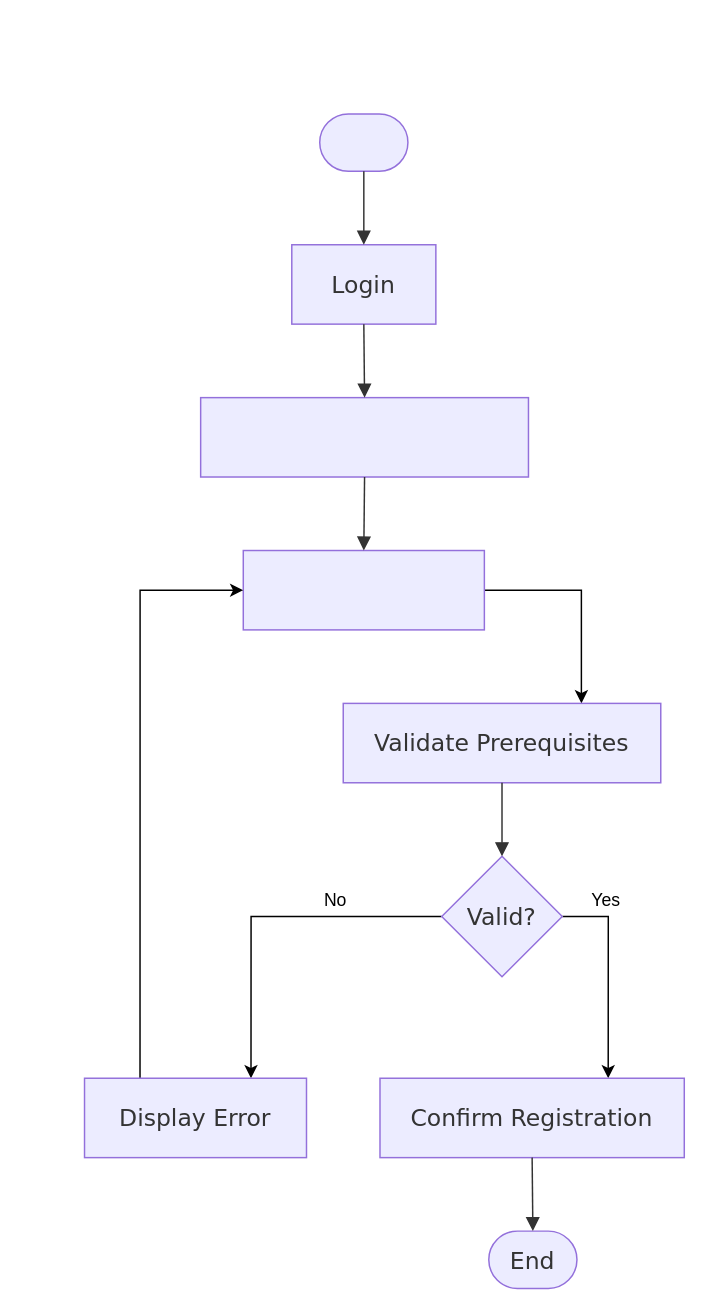
Image size: 710x1314. Some labels were removed from this diagram. Here are the shapes that lost their labels. From the top down, the box of each, then its label:
(318, 112, 408, 171): Start
(199, 396, 528, 477): View Available Courses
(242, 549, 484, 630): Select Courses
